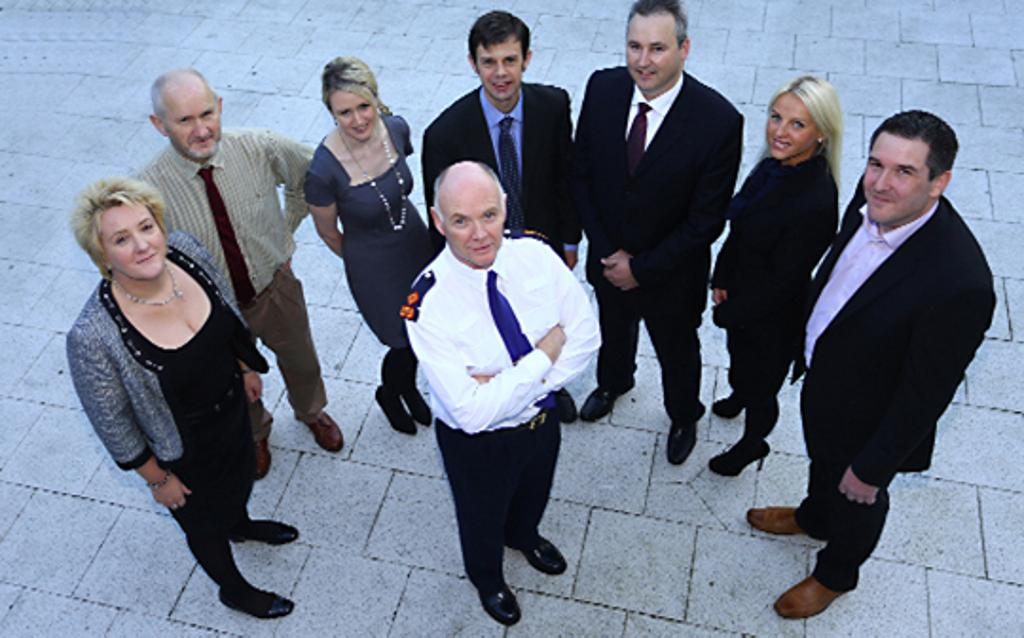face: (860, 133, 930, 223), (442, 175, 501, 265), (98, 203, 164, 278), (163, 80, 219, 156), (626, 17, 678, 89), (767, 94, 816, 158), (478, 40, 521, 99), (331, 90, 374, 141)
